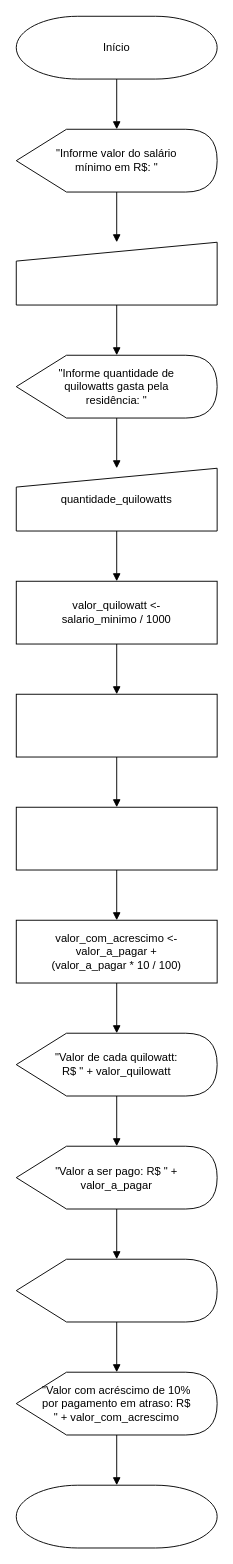
Some shapes in this 233 by 1564 pixel diagram are drawn without their labels. Here are the shapes that lost their labels. From the top down, the centre of each, then its label:
(116,273): salario_minimo
(116,725): valor_a_pagar <- valor_quilowatt * quantidade_quilowatts
(116,838): valor_com_desconto <- valor_a_pagar - (valor_a_pagar * 8 / 100)
(116,1290): "Valor com desconto de 8% por pagamento antecipado: R$ " + valor_com_desconto
(116,1516): Fim
